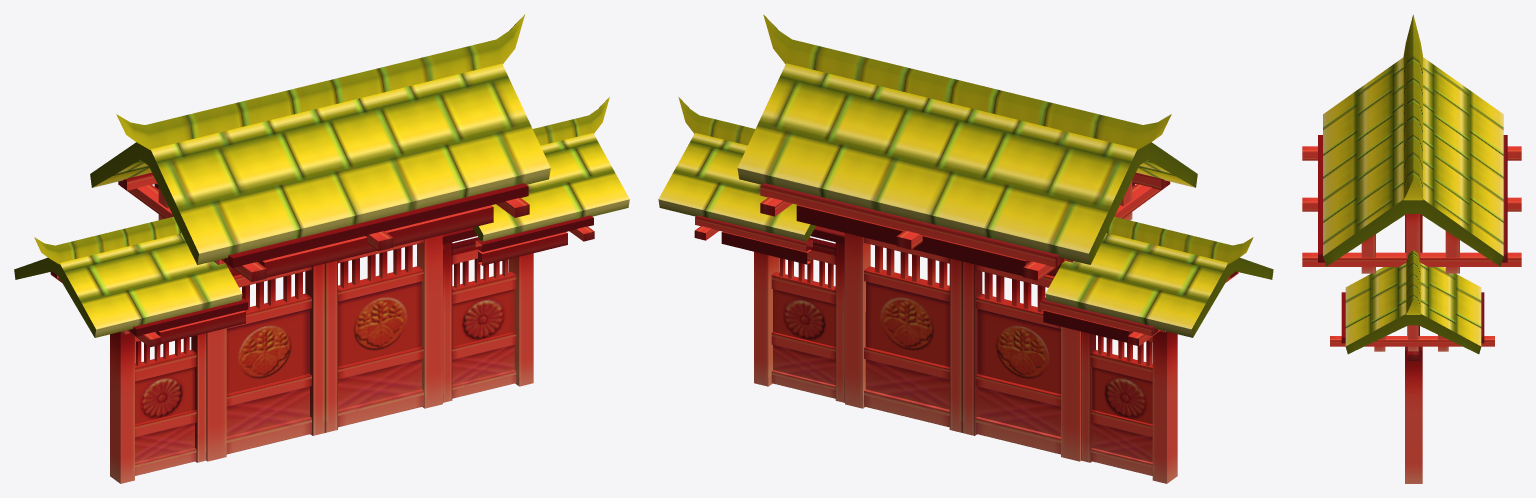
The model's file is door_02.FBX.
The picture shows the model from 3 angles, left to right: view 1: azimuth 30°, elevation 25°; view 2: azimuth 150°, elevation 25°; view 3: azimuth 270°, elevation 25°; orthographic projection. The views are drawn at different scales.
Parts seen in each view (by area): view 1: door_02; view 2: door_02; view 3: door_02.
Part boxes in pixels (x1,y1,x2,y2): door_02: (14,14,629,483); door_02: (658,14,1273,483); door_02: (1302,14,1521,483).
Bounding box in the file's own units: 108229 × 65850 × 43040.
